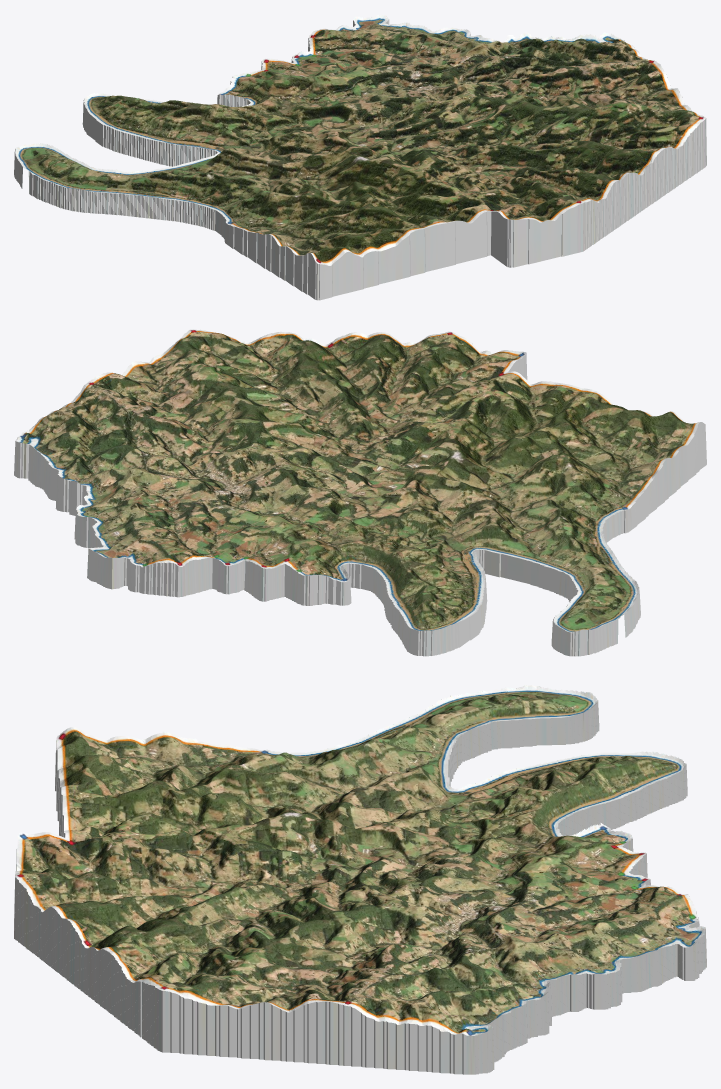
The picture shows the model from 3 angles, top to bottom: view 1: azimuth 30°, elevation 25°; view 2: azimuth 150°, elevation 25°; view 3: azimuth 270°, elevation 25°; orthographic projection. The views are drawn at different scales.
Size of the model in its own units: 1 by 0.0828 by 0.8132.
Materials: 1 (1 with a texture image).
